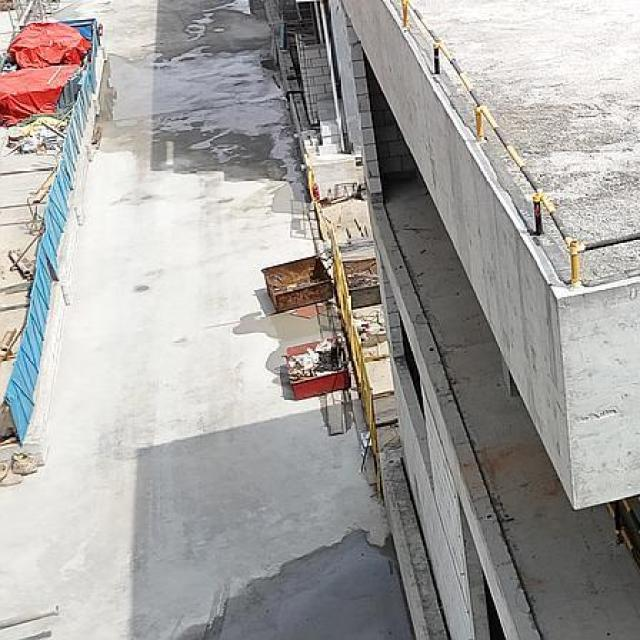edge_guardrail: (401, 0, 639, 291), (604, 500, 640, 570)
